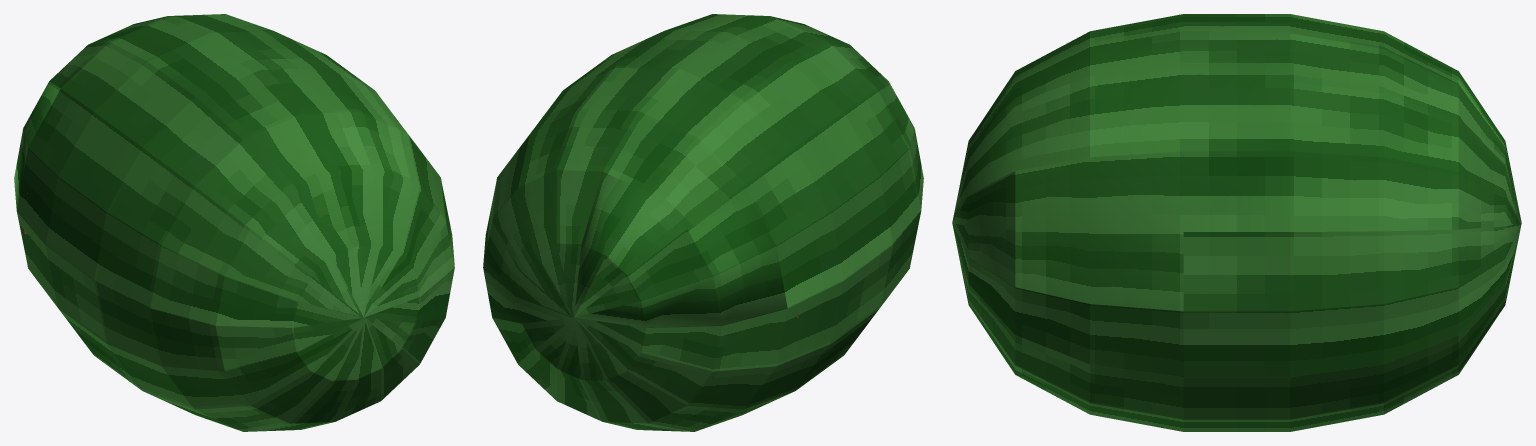
Rendered from Breakable_Watermelon.fbx.
3 views of the same model, side by side, from view 1: azimuth 30°, elevation 25°; view 2: azimuth 150°, elevation 25°; view 3: azimuth 270°, elevation 25° (orthographic). The views are drawn at different scales.
Visible parts, largest first — view 1: Watermelon_12, Watermelon_13, Watermelon_7, Watermelon_3, Watermelon_14, Watermelon_16, Watermelon_8, Watermelon_11, Watermelon_1, Watermelon_2, Watermelon_5, Watermelon_6; view 2: Watermelon_5, Watermelon_12, Watermelon_9, Watermelon_8, Watermelon_14, Watermelon_4, Watermelon_6, Watermelon_3, Watermelon_13, Watermelon_10, Watermelon_7; view 3: Watermelon_10, Watermelon_2, Watermelon_11, Watermelon_3, Watermelon_6, Watermelon_7, Watermelon_4, Watermelon_9, Watermelon_1, Watermelon_8, Watermelon_5.
Part boxes in pixels (bbox=[...]): Watermelon_12: bbox=[28, 61, 363, 317]; Watermelon_13: bbox=[94, 212, 363, 409]; Watermelon_7: bbox=[195, 111, 419, 317]; Watermelon_3: bbox=[147, 30, 407, 139]; Watermelon_14: bbox=[16, 148, 141, 390]; Watermelon_16: bbox=[144, 318, 381, 431]; Watermelon_8: bbox=[49, 16, 209, 111]; Watermelon_11: bbox=[364, 268, 454, 400]; Watermelon_1: bbox=[364, 188, 454, 317]; Watermelon_2: bbox=[408, 134, 454, 265]; Watermelon_5: bbox=[14, 81, 60, 209]; Watermelon_6: bbox=[168, 14, 272, 32]; Watermelon_5: bbox=[574, 172, 787, 327]; Watermelon_12: bbox=[742, 42, 914, 245]; Watermelon_9: bbox=[492, 309, 787, 431]; Watermelon_8: bbox=[603, 68, 795, 228]; Watermelon_14: bbox=[744, 176, 892, 409]; Watermelon_4: bbox=[483, 170, 646, 380]; Watermelon_6: bbox=[518, 66, 678, 244]; Watermelon_3: bbox=[564, 14, 827, 96]; Watermelon_13: bbox=[880, 129, 923, 307]; Watermelon_10: bbox=[483, 134, 529, 265]; Watermelon_7: bbox=[771, 16, 888, 87]; Watermelon_10: bbox=[1183, 151, 1458, 377]; Watermelon_2: bbox=[1015, 151, 1290, 311]; Watermelon_11: bbox=[952, 224, 1383, 431]; Watermelon_3: bbox=[1090, 14, 1290, 157]; Watermelon_6: bbox=[1290, 33, 1505, 170]; Watermelon_7: bbox=[952, 31, 1089, 222]; Watermelon_4: bbox=[1458, 120, 1521, 334]; Watermelon_9: bbox=[1384, 284, 1505, 414]; Watermelon_1: bbox=[952, 171, 1015, 286]; Watermelon_8: bbox=[1290, 14, 1458, 84]; Watermelon_5: bbox=[1458, 71, 1520, 215].
Bounding box in the file's own units: 195 × 195 × 265.
2 materials, 2 textured.
